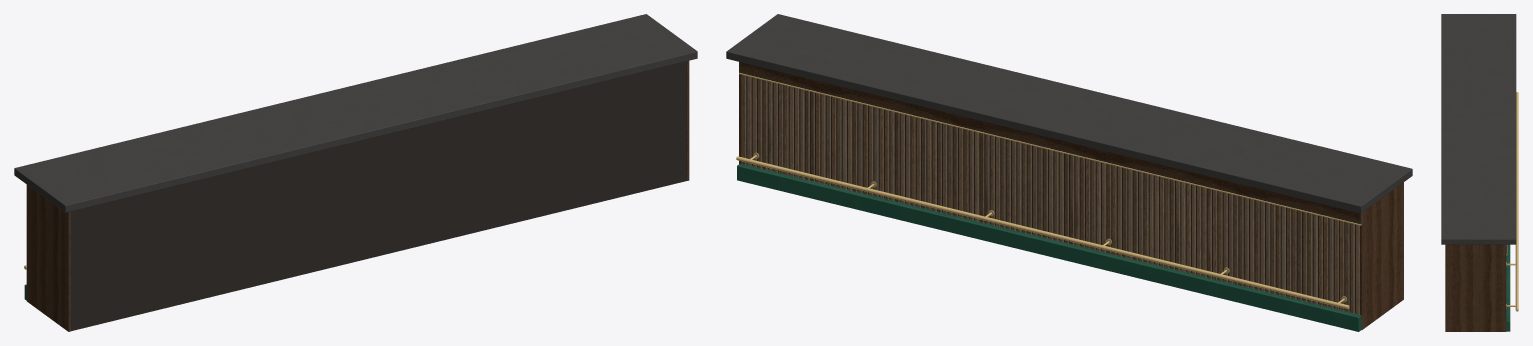
Rendered from PH_BarCounter__Body.fbx.
3 views of the same model, side by side, from view 1: azimuth 30°, elevation 25°; view 2: azimuth 150°, elevation 25°; view 3: azimuth 270°, elevation 25° (orthographic). The views are drawn at different scales.
Visible parts, largest first — view 1: PH_BarCounter__Body; view 2: PH_BarCounter__Body; view 3: PH_BarCounter__Body.
Boxes of the visible parts, bbox=[...] form: PH_BarCounter__Body: bbox=[14, 14, 697, 331]; PH_BarCounter__Body: bbox=[726, 14, 1412, 331]; PH_BarCounter__Body: bbox=[1441, 14, 1518, 331].
Size of the model in its own units: 5.4 by 1.06 by 0.785.
